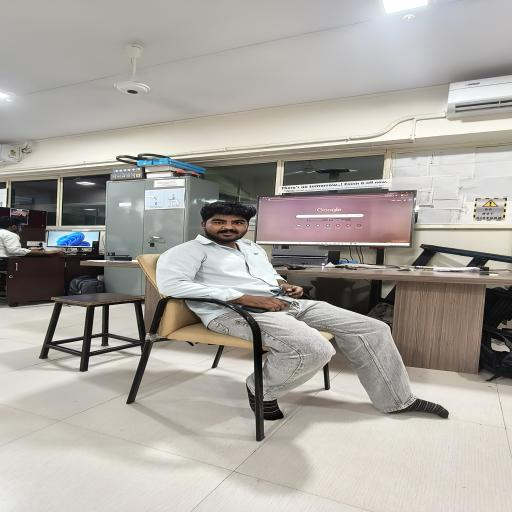survivor: (154, 200, 450, 421), (0, 215, 66, 300)
